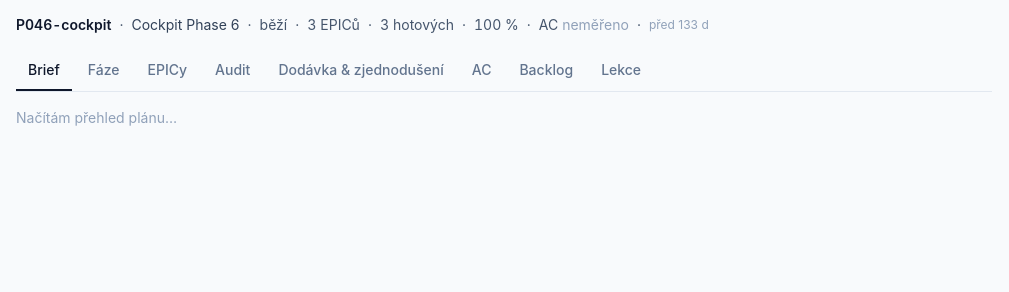
ScreenPlan — plan detail tabs › AC headline acPct:null → "neměřeno / fast mode", never 0 %
Expected: the element that starts with "P046-cockpit" is shown, [16,16,709,33]
What coordinates should you click on to do the following:
click the tab "AC"
I would click on:
 (482, 71)
Its box is [460,51,503,91].
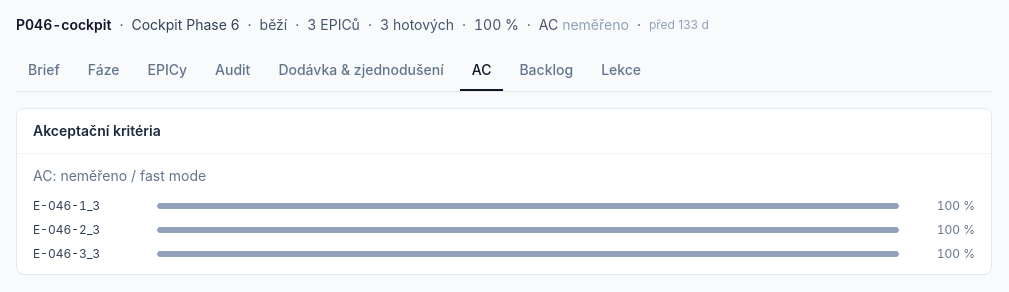
Expected: the element that starts with "AC: neměřeno / fast mode" is shown, [33,167,206,184]
